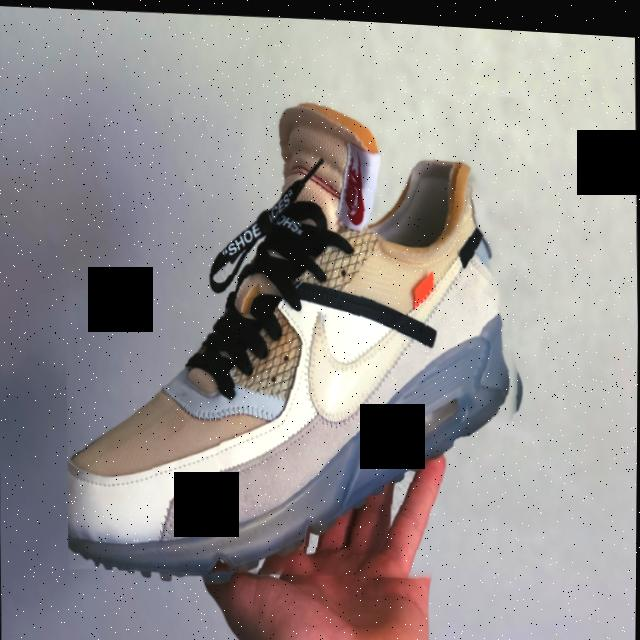shoe: (61, 70, 536, 589)
